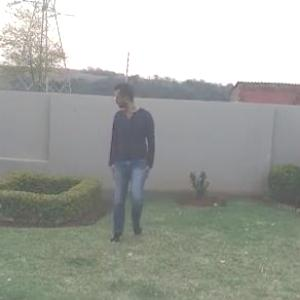follow: (107, 80, 155, 248)
